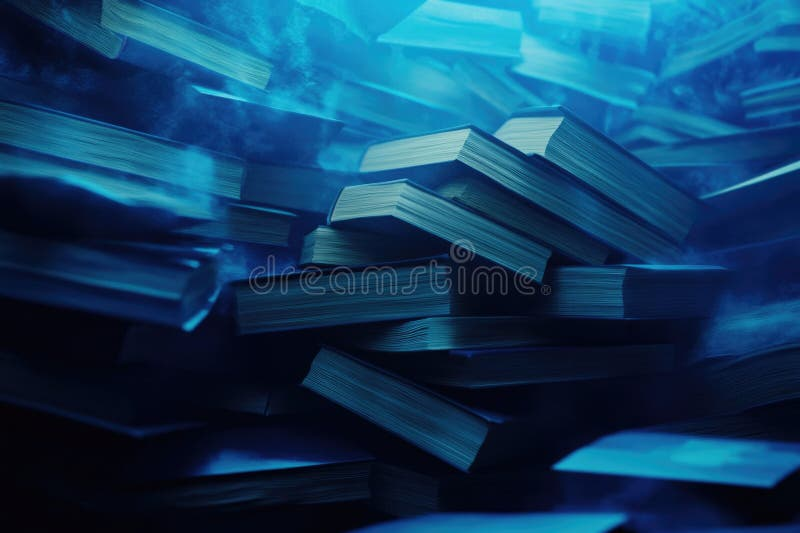not a gesture sign: (330, 180, 550, 283)
